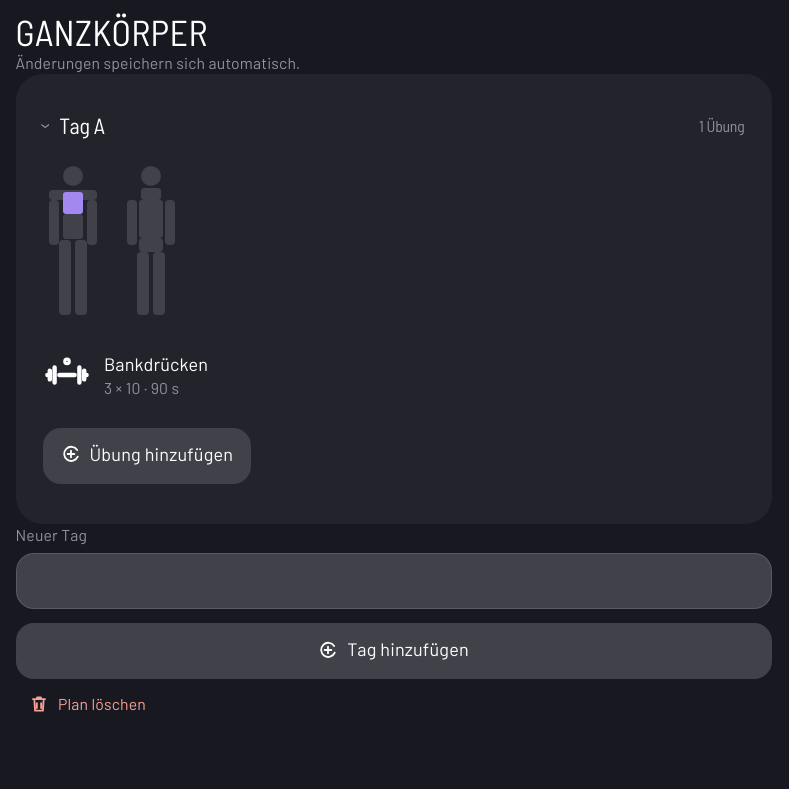
Scenario: TrainingPlanEditPage › shows the day with its exercise and target values
Expected: the text "Tag A" is shown, [59,112,105,140]
Expected: the text "Bankdrücken" is shown, [104,351,208,377]
Click the button "Bankdrücken 3 × 10 · 90 s" at [156, 364], box [104,351,744,401]
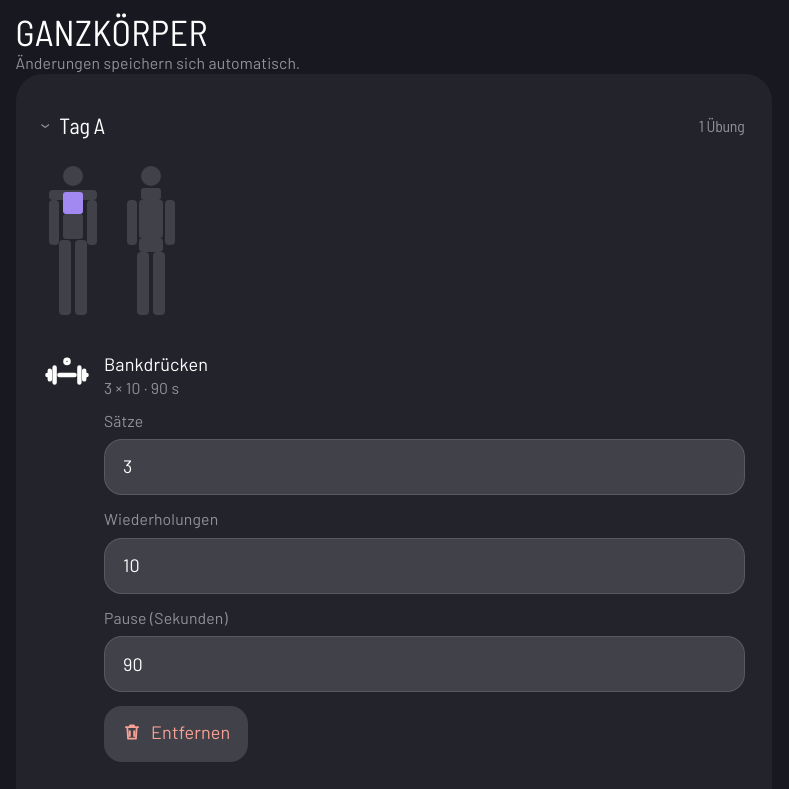
Expected: the number field labelled "Sätze" holds "3", [104,439,744,495]
Expected: the button "Entfernen" is shown, [104,706,248,762]
